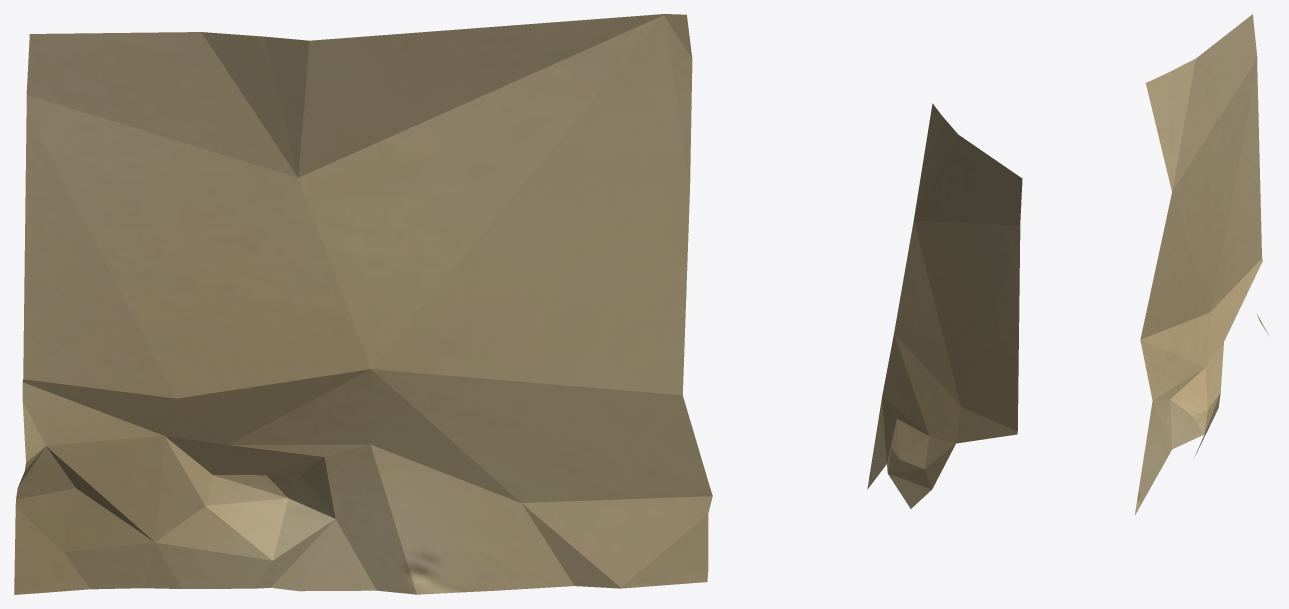
3 views of the same model, side by side, from view 1: azimuth 30°, elevation 25°; view 2: azimuth 150°, elevation 25°; view 3: azimuth 270°, elevation 25° (orthographic). The views are drawn at different scales.
Size of the model in its own units: 0.8244 by 0.8374 by 0.4244.
3 materials, 3 textured.
